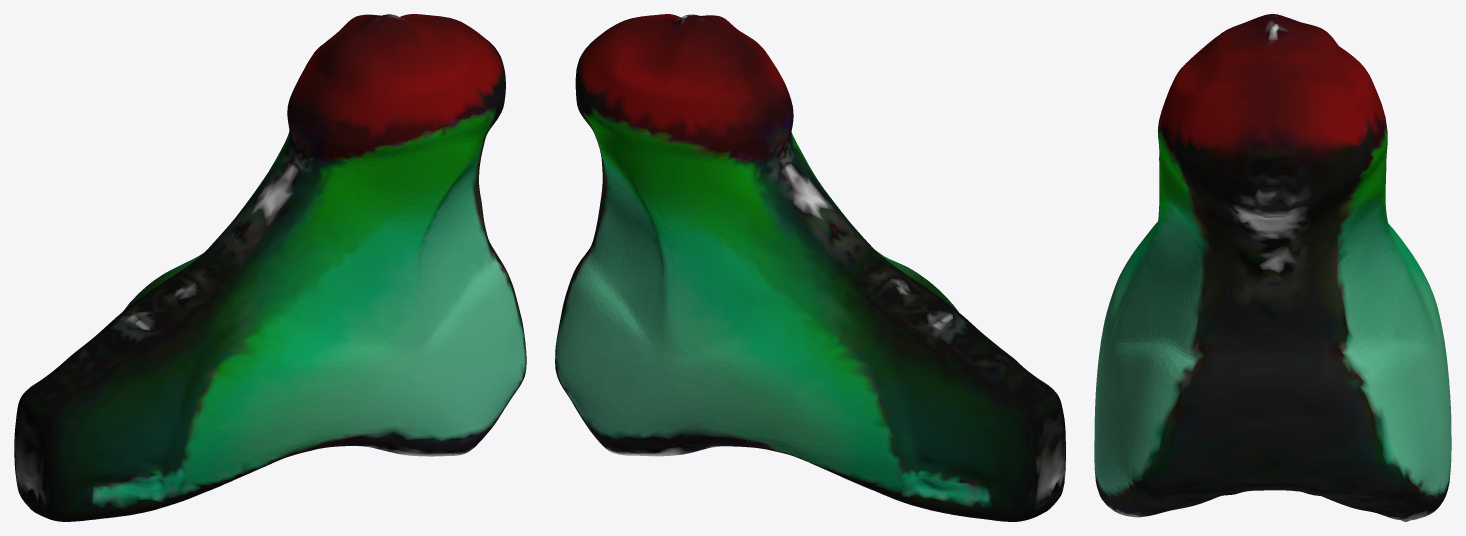
The model's file is goblin_foot.glb.
The picture shows the model from 3 angles, left to right: view 1: azimuth 30°, elevation 25°; view 2: azimuth 150°, elevation 25°; view 3: azimuth 270°, elevation 25°; orthographic projection. The views are drawn at different scales.
Visible parts, largest first — view 1: geometry_0; view 2: geometry_0; view 3: geometry_0.
Part boxes in pixels (x1,y1,x2,y2): geometry_0: (14,14,526,521); geometry_0: (555,14,1065,521); geometry_0: (1094,14,1451,521).
Size of the model in its own units: 0.5938 by 0.5032 by 0.3205.
